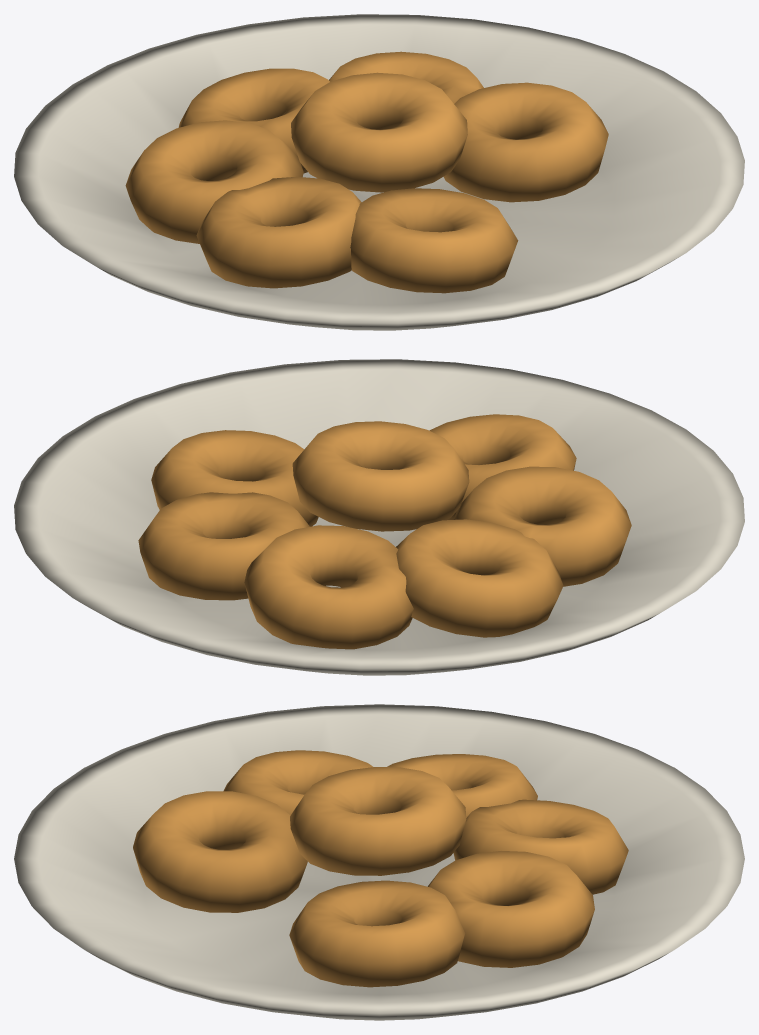
The model's file is prop_bizcochos.glb.
3 views of the same model, one above another, from view 1: azimuth 30°, elevation 25°; view 2: azimuth 150°, elevation 25°; view 3: azimuth 270°, elevation 25° (orthographic).
Parts seen in each view (by area): view 1: prop_bizcochos; view 2: prop_bizcochos; view 3: prop_bizcochos.
Part boxes in pixels (x1,y1,x2,y2): prop_bizcochos: (14, 14, 744, 330); prop_bizcochos: (14, 359, 744, 675); prop_bizcochos: (14, 704, 744, 1020).
Size of the model in its own units: 0.18 by 0.034 by 0.18.
